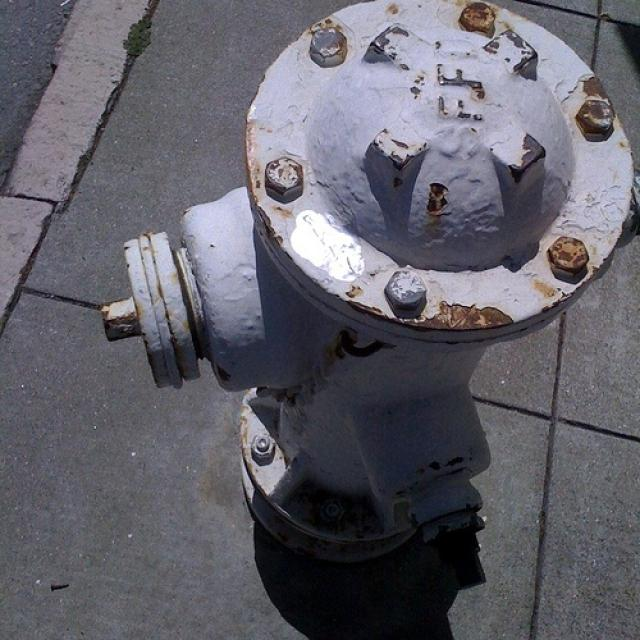fire_hydrant: (57, 0, 624, 640)
